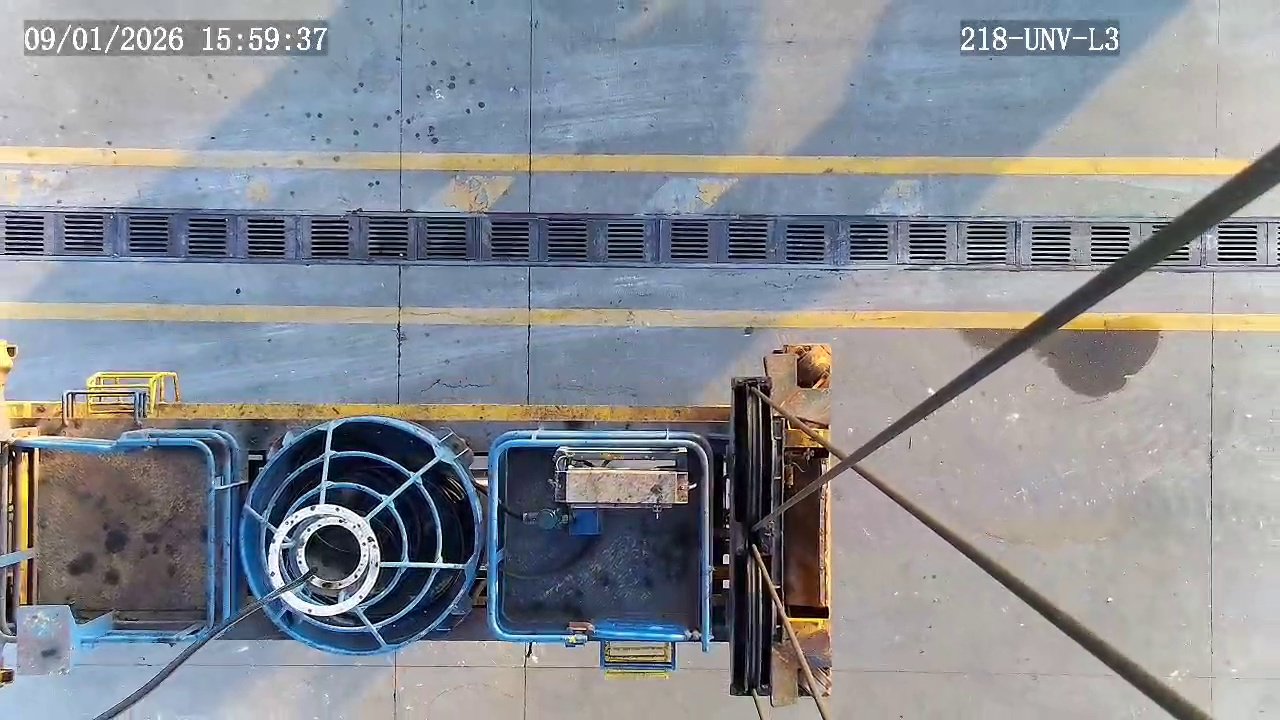right: (267, 504, 379, 613)
